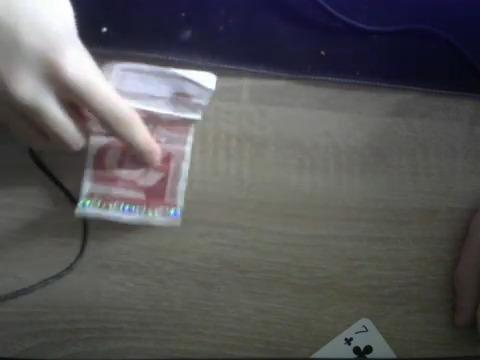5leva: (74, 63, 218, 229)
